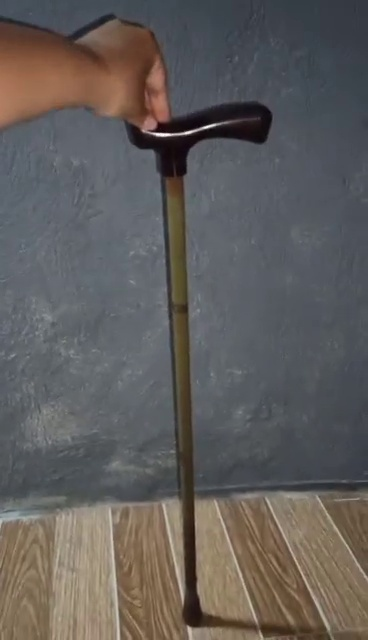cane: (122, 106, 273, 625)
hand: (58, 13, 174, 135)
